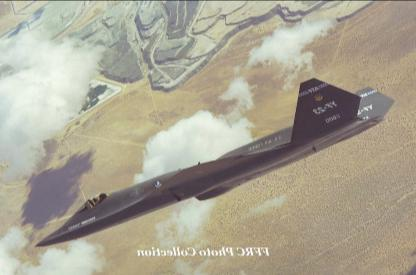US2: (35, 77, 396, 247)
